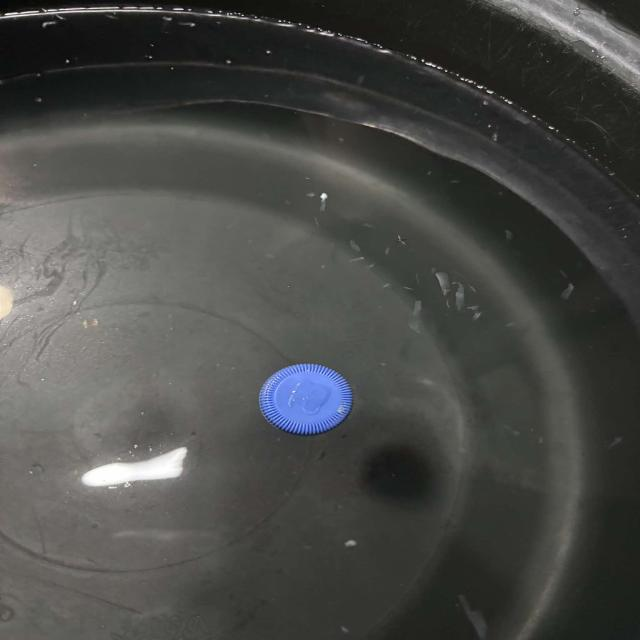Bottle Lid: (258, 364, 353, 435)
